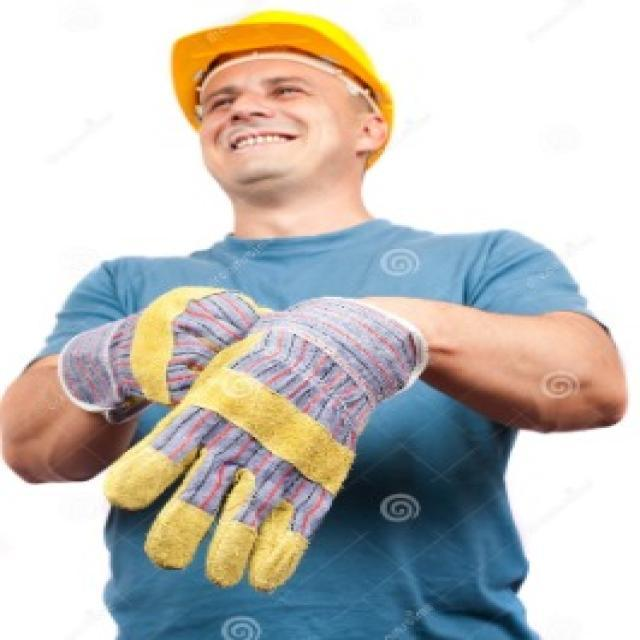gloved: (56, 284, 428, 592), (106, 296, 420, 593), (70, 290, 259, 406)
